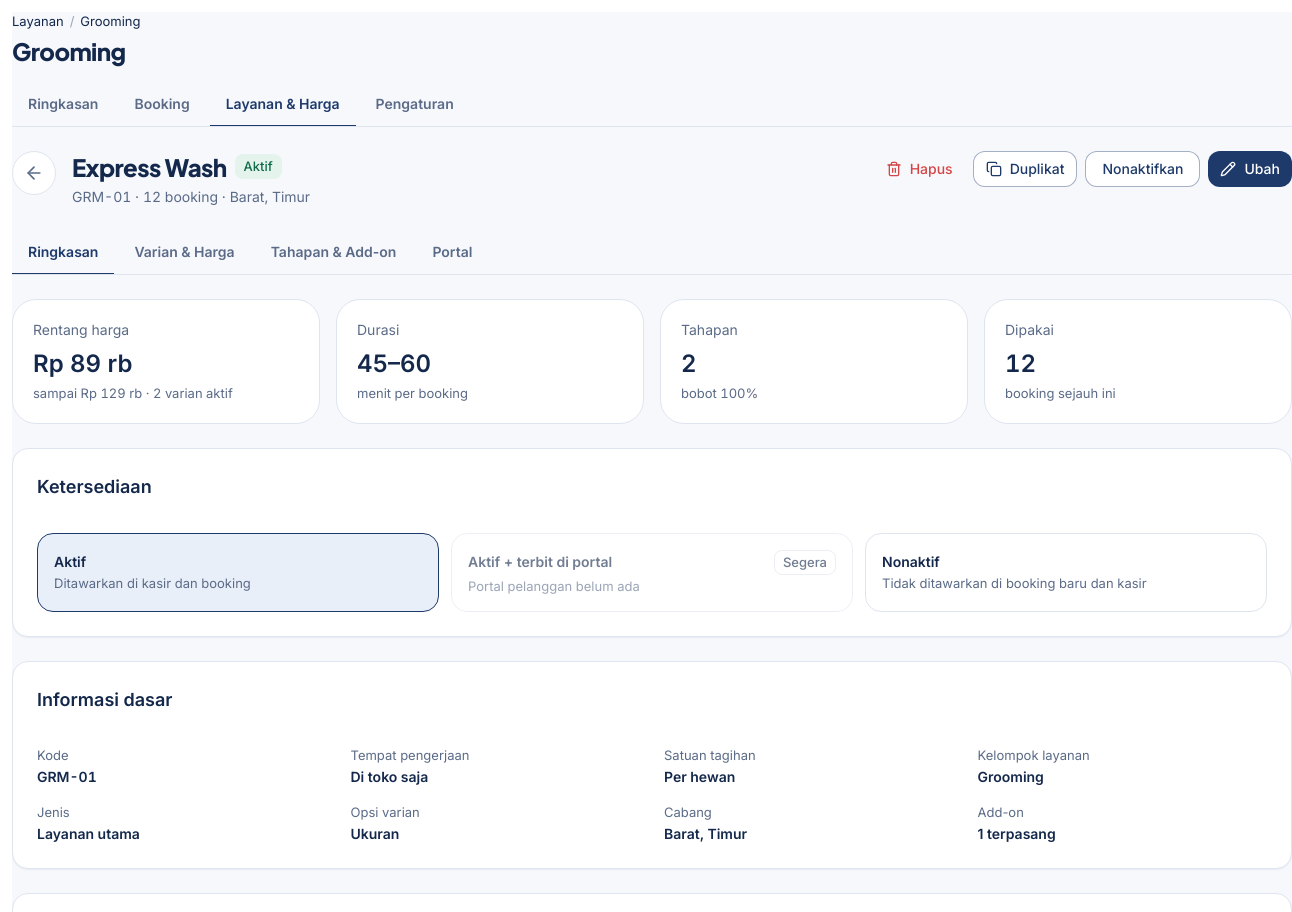
Test: GroomingServiceDetailScreen › keeps a priced size whose option was retired, and gives a size the tenant added its own row
Click the tab "Varian & Harga": (184, 253) [118, 231, 251, 275]
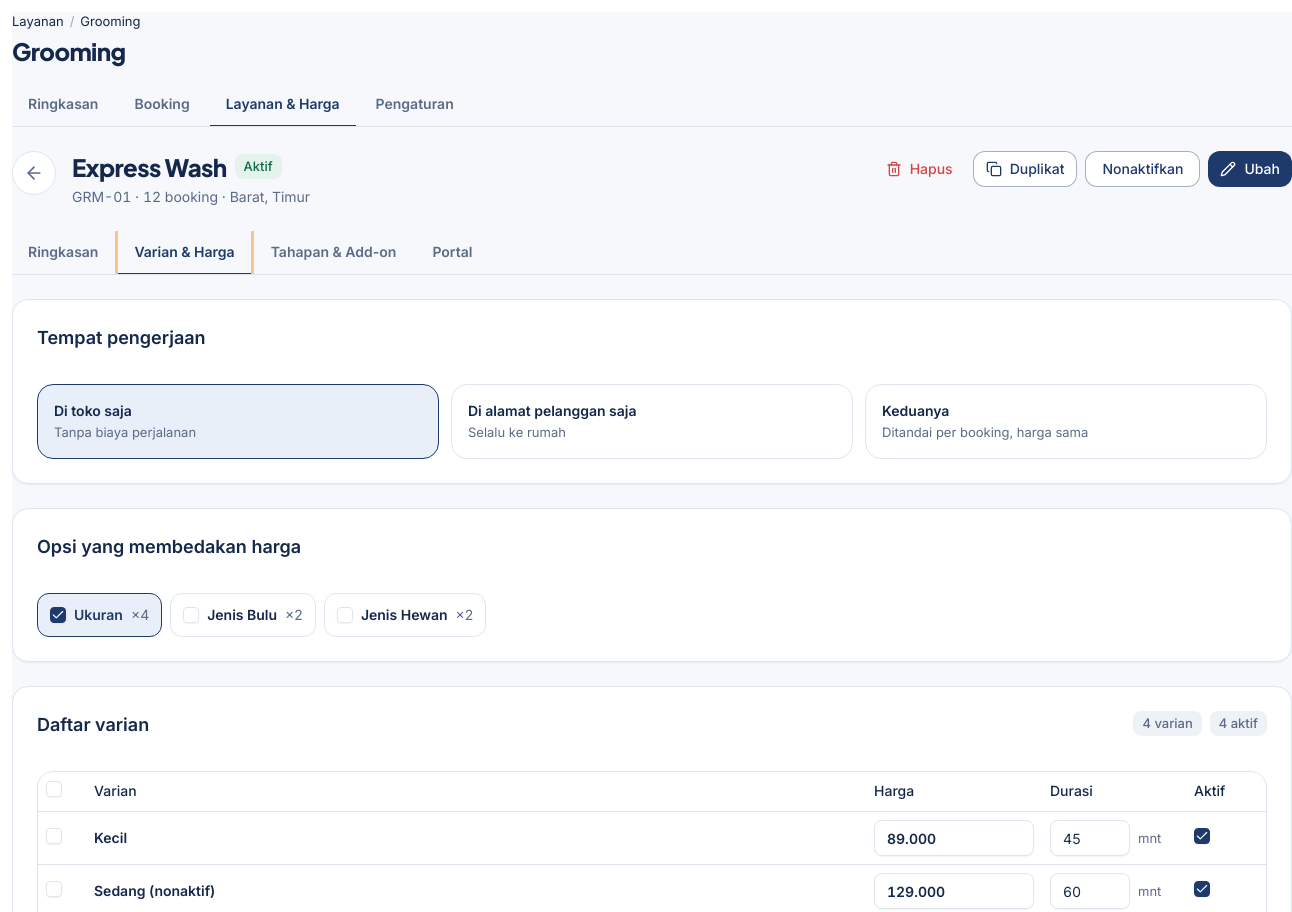
expect the field named "Harga Sedang (nonaktif)" holds "129.000": met, box [874, 873, 1034, 909]
expect the text "×4" is shown: met, box [131, 605, 149, 625]
